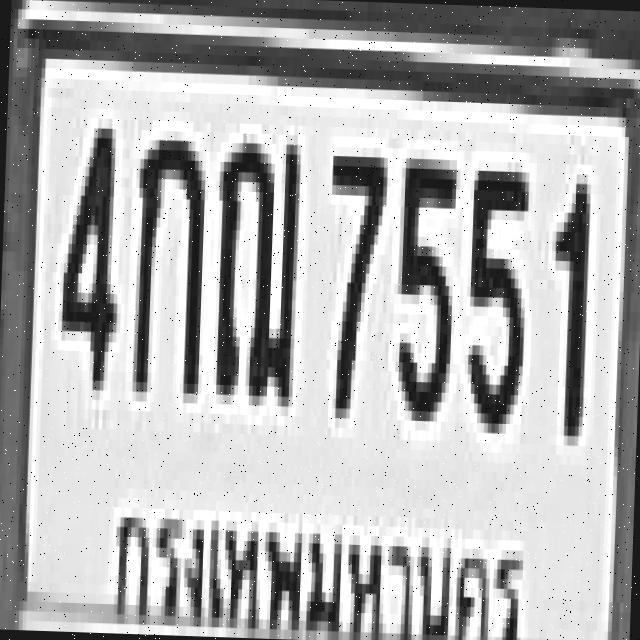1: (545, 173, 587, 436)
10GorGai: (128, 129, 203, 393)
21ChorChoe: (208, 122, 298, 396)
4: (56, 117, 120, 381)
5: (389, 148, 454, 412), (462, 160, 526, 424)
7: (320, 146, 384, 410)
Bangkok: (100, 477, 529, 640)
